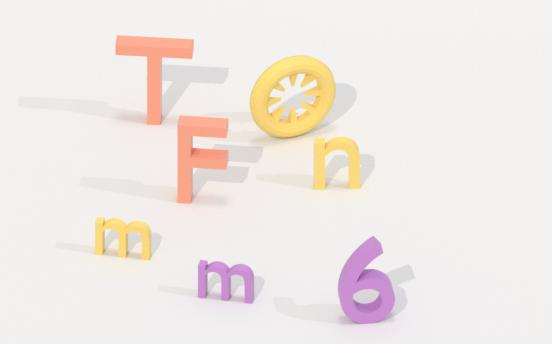6: (336, 232, 398, 325)
F: (172, 111, 235, 209)
m: (88, 215, 154, 264), (195, 258, 257, 306)
n: (308, 134, 369, 199)
t-hoa: (114, 33, 196, 129)
tron: (243, 53, 341, 140)
